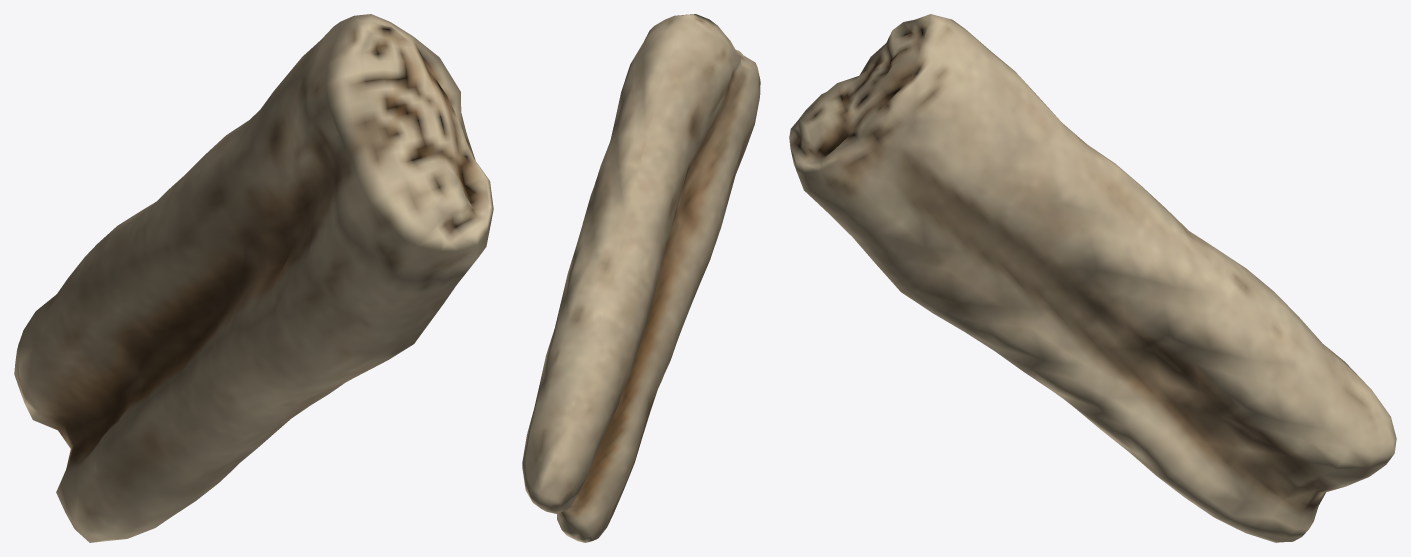
The model's file is Mandibular_Premolar3.glb.
3 renders of one model, left to right at view 1: azimuth 30°, elevation 25°; view 2: azimuth 150°, elevation 25°; view 3: azimuth 270°, elevation 25°, orthographic. The views are drawn at different scales.
Visible parts, largest first — view 1: Mandibular_Premolar3.glb; view 2: Mandibular_Premolar3.glb; view 3: Mandibular_Premolar3.glb.
Part boxes in pixels (box(x1,y1,x2,y2)): Mandibular_Premolar3.glb: box(14, 14, 493, 542); Mandibular_Premolar3.glb: box(522, 14, 760, 542); Mandibular_Premolar3.glb: box(789, 14, 1396, 542).
Size of the model in its own units: 0.02 by 0.0692 by 0.07.
1 material, 1 textured.
